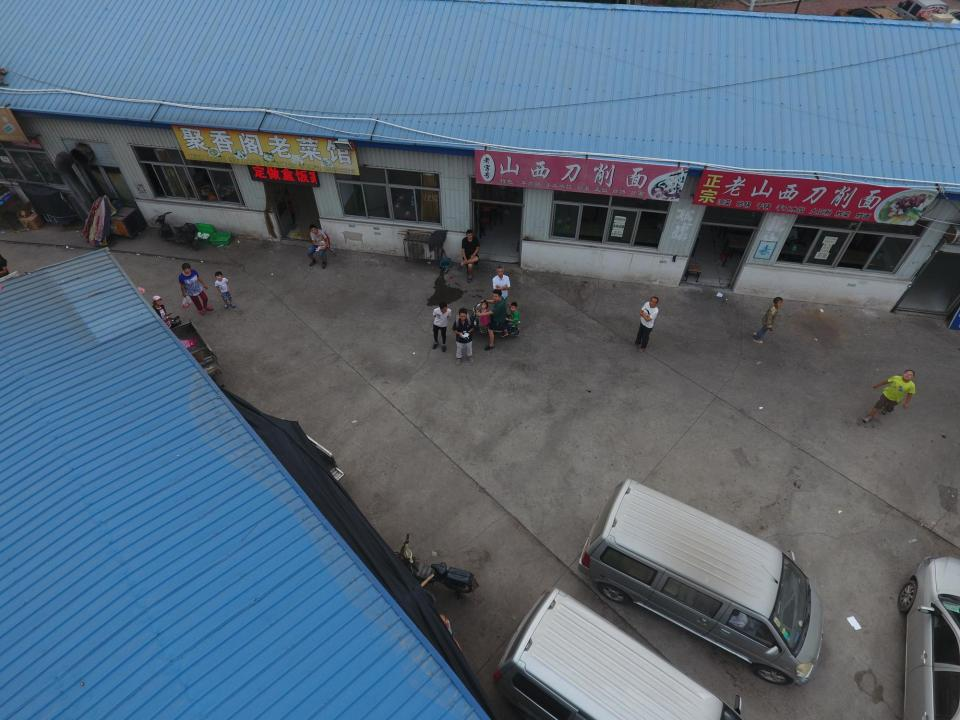car: (898, 556, 959, 720)
van: (577, 478, 824, 685), (492, 588, 747, 720)
